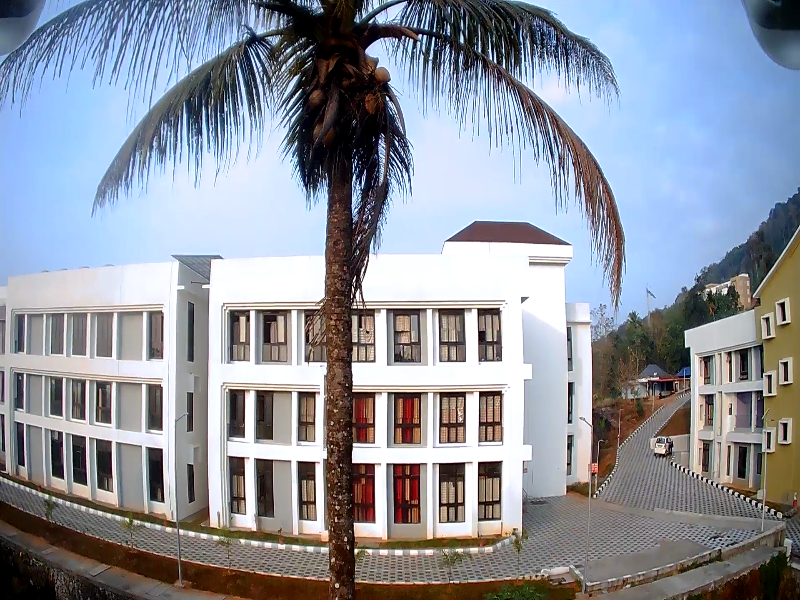coconut: (372, 61, 393, 93), (365, 93, 381, 119), (311, 122, 327, 145), (305, 90, 323, 107)
